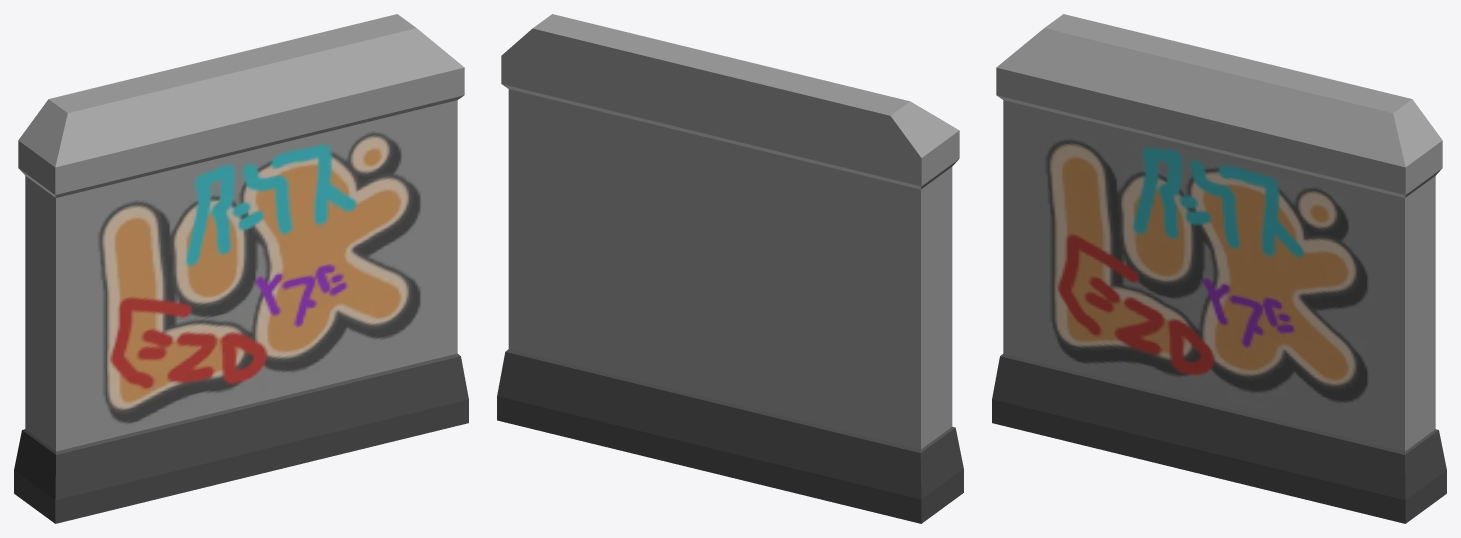
The model's file is city_SM_Env_Graffiti_Ground_02.gltf.
3 renders of one model, left to right at view 1: azimuth 30°, elevation 25°; view 2: azimuth 150°, elevation 25°; view 3: azimuth 330°, elevation 25°, orthographic. The views are drawn at different scales.
Parts seen in each view (by area): view 1: SM_Env_Graffiti_Ground_02; view 2: SM_Env_Graffiti_Ground_02; view 3: SM_Env_Graffiti_Ground_02.
Boxes of the visible parts, x1,y1,x2,y2 form: SM_Env_Graffiti_Ground_02: [14, 14, 468, 523]; SM_Env_Graffiti_Ground_02: [497, 14, 963, 523]; SM_Env_Graffiti_Ground_02: [992, 14, 1446, 523].
Size of the model in its own units: 2.18 by 1.95 by 0.3779.
Materials: 1 (1 with a texture image).
